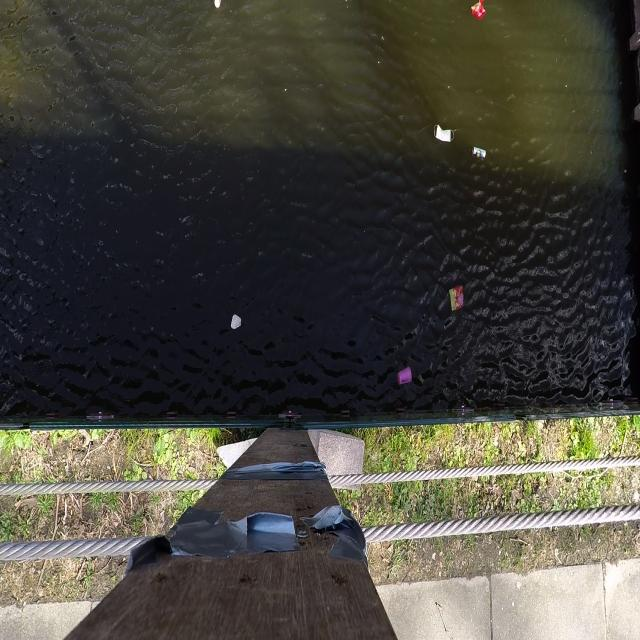Autre plastique: (444, 278, 467, 316), (394, 365, 414, 388)
Non plastique: (431, 119, 456, 150), (470, 142, 488, 167)
